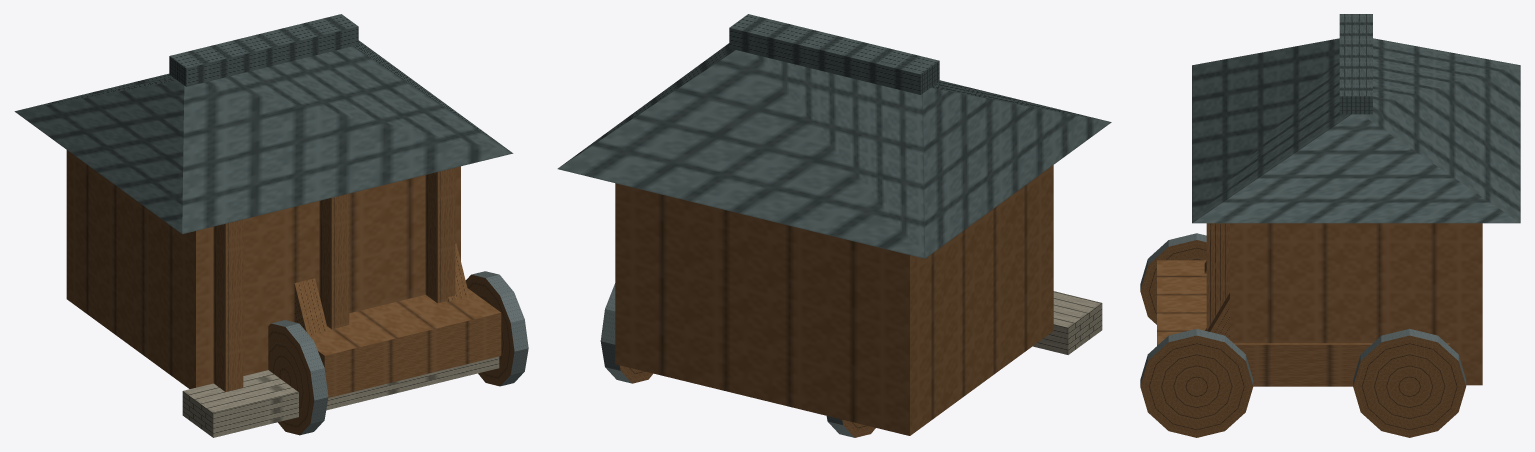
File: domestic-WORKSHOP-1-lod0.glb
3 renders of one model, left to right at view 1: azimuth 30°, elevation 25°; view 2: azimuth 150°, elevation 25°; view 3: azimuth 270°, elevation 25°, orthographic. The views are drawn at different scales.
Size of the model in its own units: 0.5625 by 0.513 by 0.572.
1 material, 1 textured.
